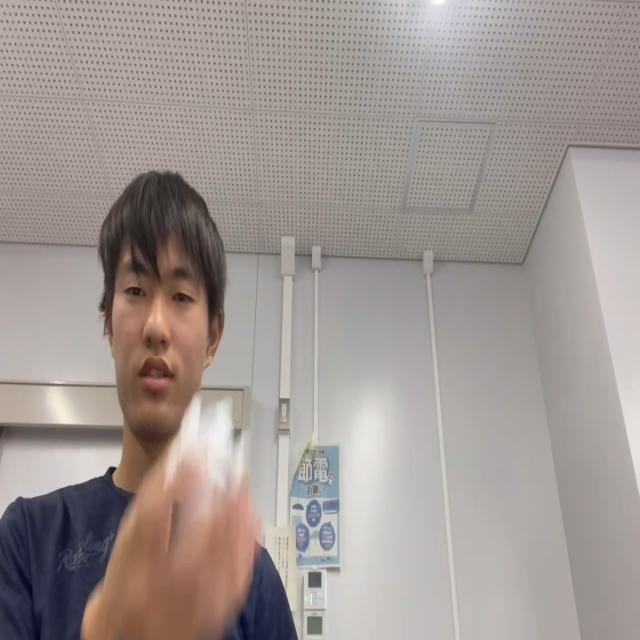paper: (170, 398, 252, 531)
